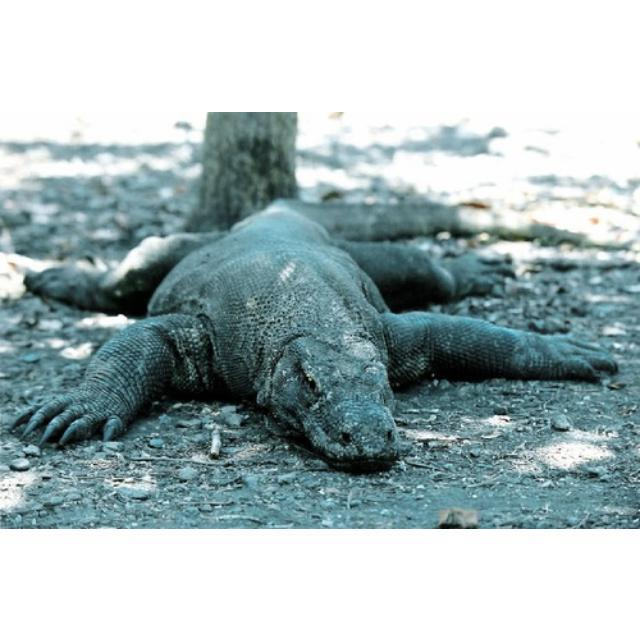KomodoDragon: (6, 196, 619, 471)
